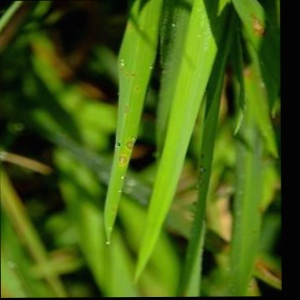Brown_Spot: (123, 132, 144, 155)
